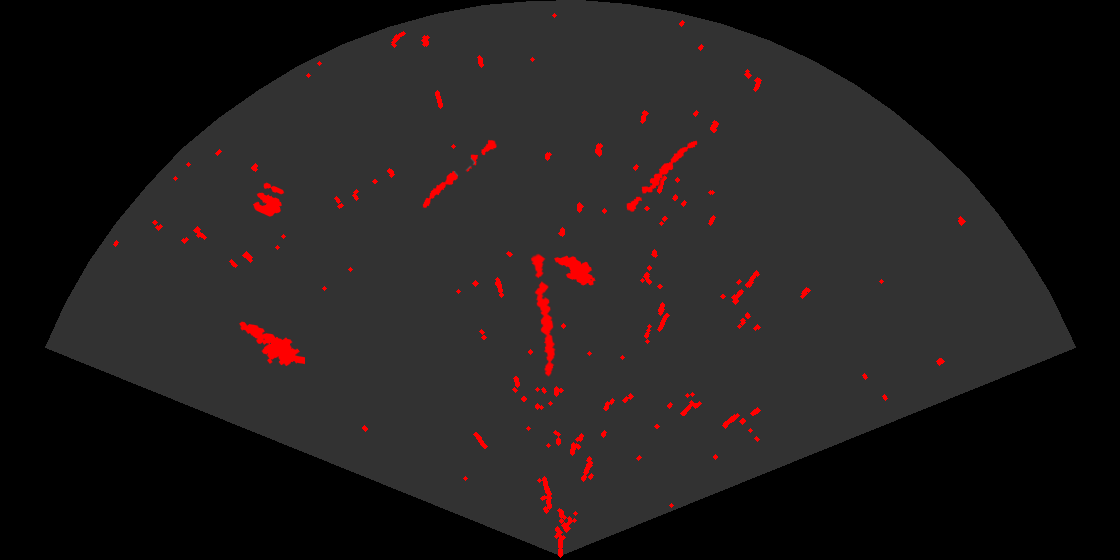AUV: (553, 254, 597, 287)
ball: (251, 181, 286, 218)
chain: (625, 139, 699, 214), (421, 138, 498, 210), (529, 251, 557, 378)
frogman: (238, 320, 305, 368)
